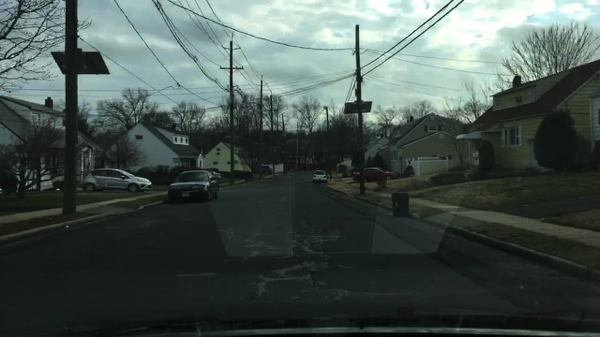car: (79, 168, 154, 194), (167, 170, 220, 206), (352, 166, 398, 181), (312, 169, 327, 182), (211, 170, 225, 181), (261, 164, 273, 176)
